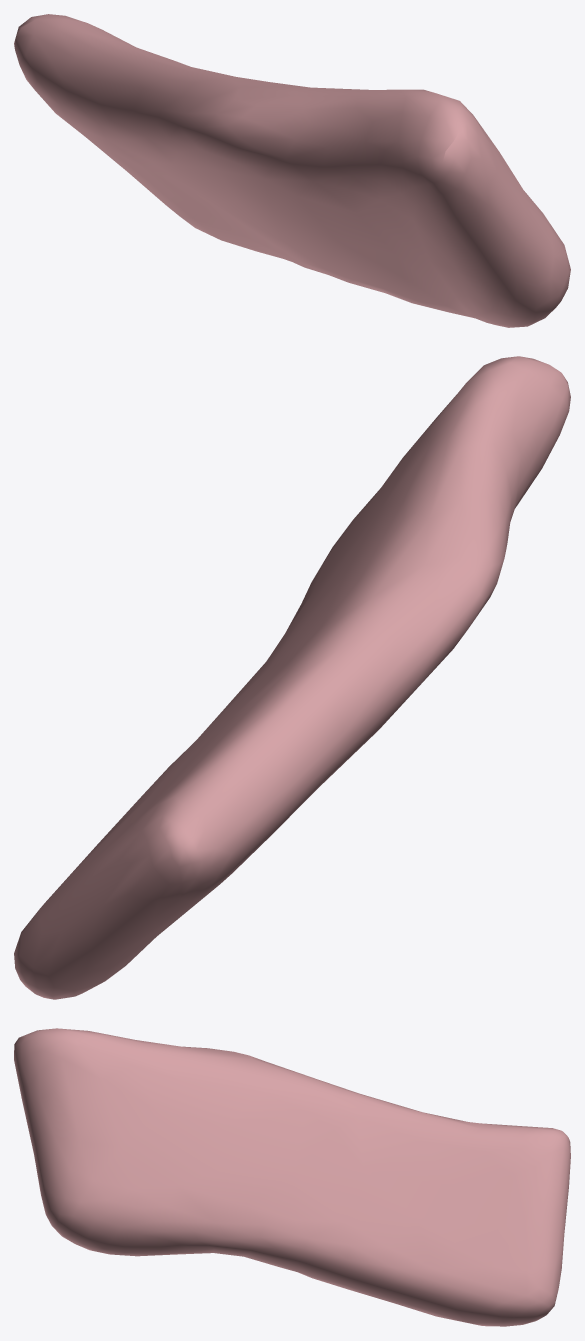
File: fma275299_mm3763m.glb
3 renders of one model, top to bottom at view 1: azimuth 30°, elevation 25°; view 2: azimuth 150°, elevation 25°; view 3: azimuth 270°, elevation 25°, orthographic. The views are drawn at different scales.
Visible parts, largest first — view 1: FMA275299_MM3763M; view 2: FMA275299_MM3763M; view 3: FMA275299_MM3763M.
Boxes of the visible parts, left/top/right/bottom form: FMA275299_MM3763M: left=14, top=14, right=570, bottom=327; FMA275299_MM3763M: left=14, top=356, right=570, bottom=999; FMA275299_MM3763M: left=14, top=1028, right=570, bottom=1326.
Bounding box in the file's own units: 0.00939 × 0.0139 × 0.0263.
